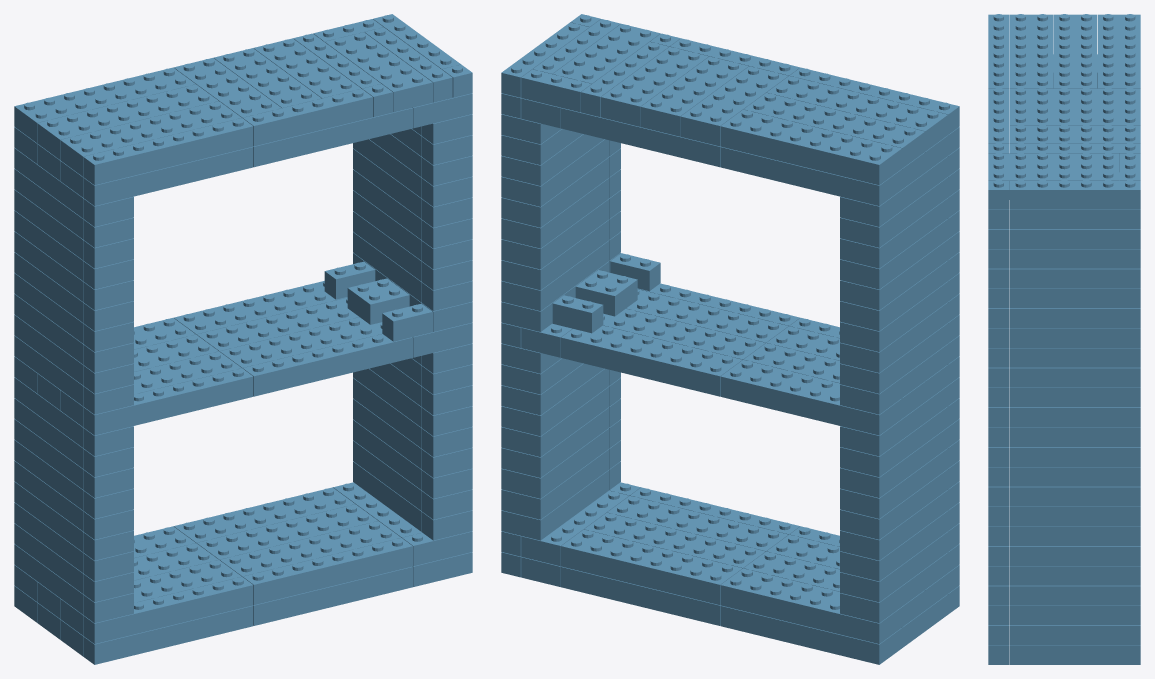
Rendered from collab_bookshelf-L1-C1_raw.glb.
3 views of the same model, side by side, from view 1: azimuth 30°, elevation 25°; view 2: azimuth 150°, elevation 25°; view 3: azimuth 270°, elevation 25° (orthographic). The views are drawn at different scales.
Bounding box in the file's own units: 18.98 × 24.13 × 6.98.
